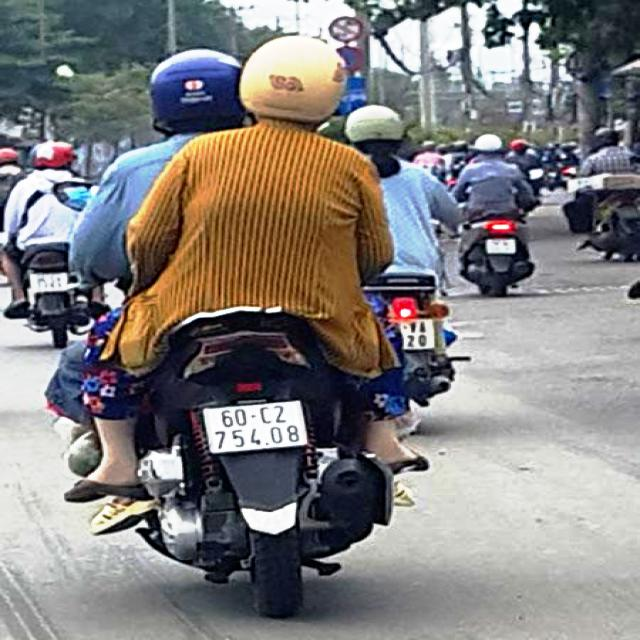license_plate: (204, 401, 310, 459)
